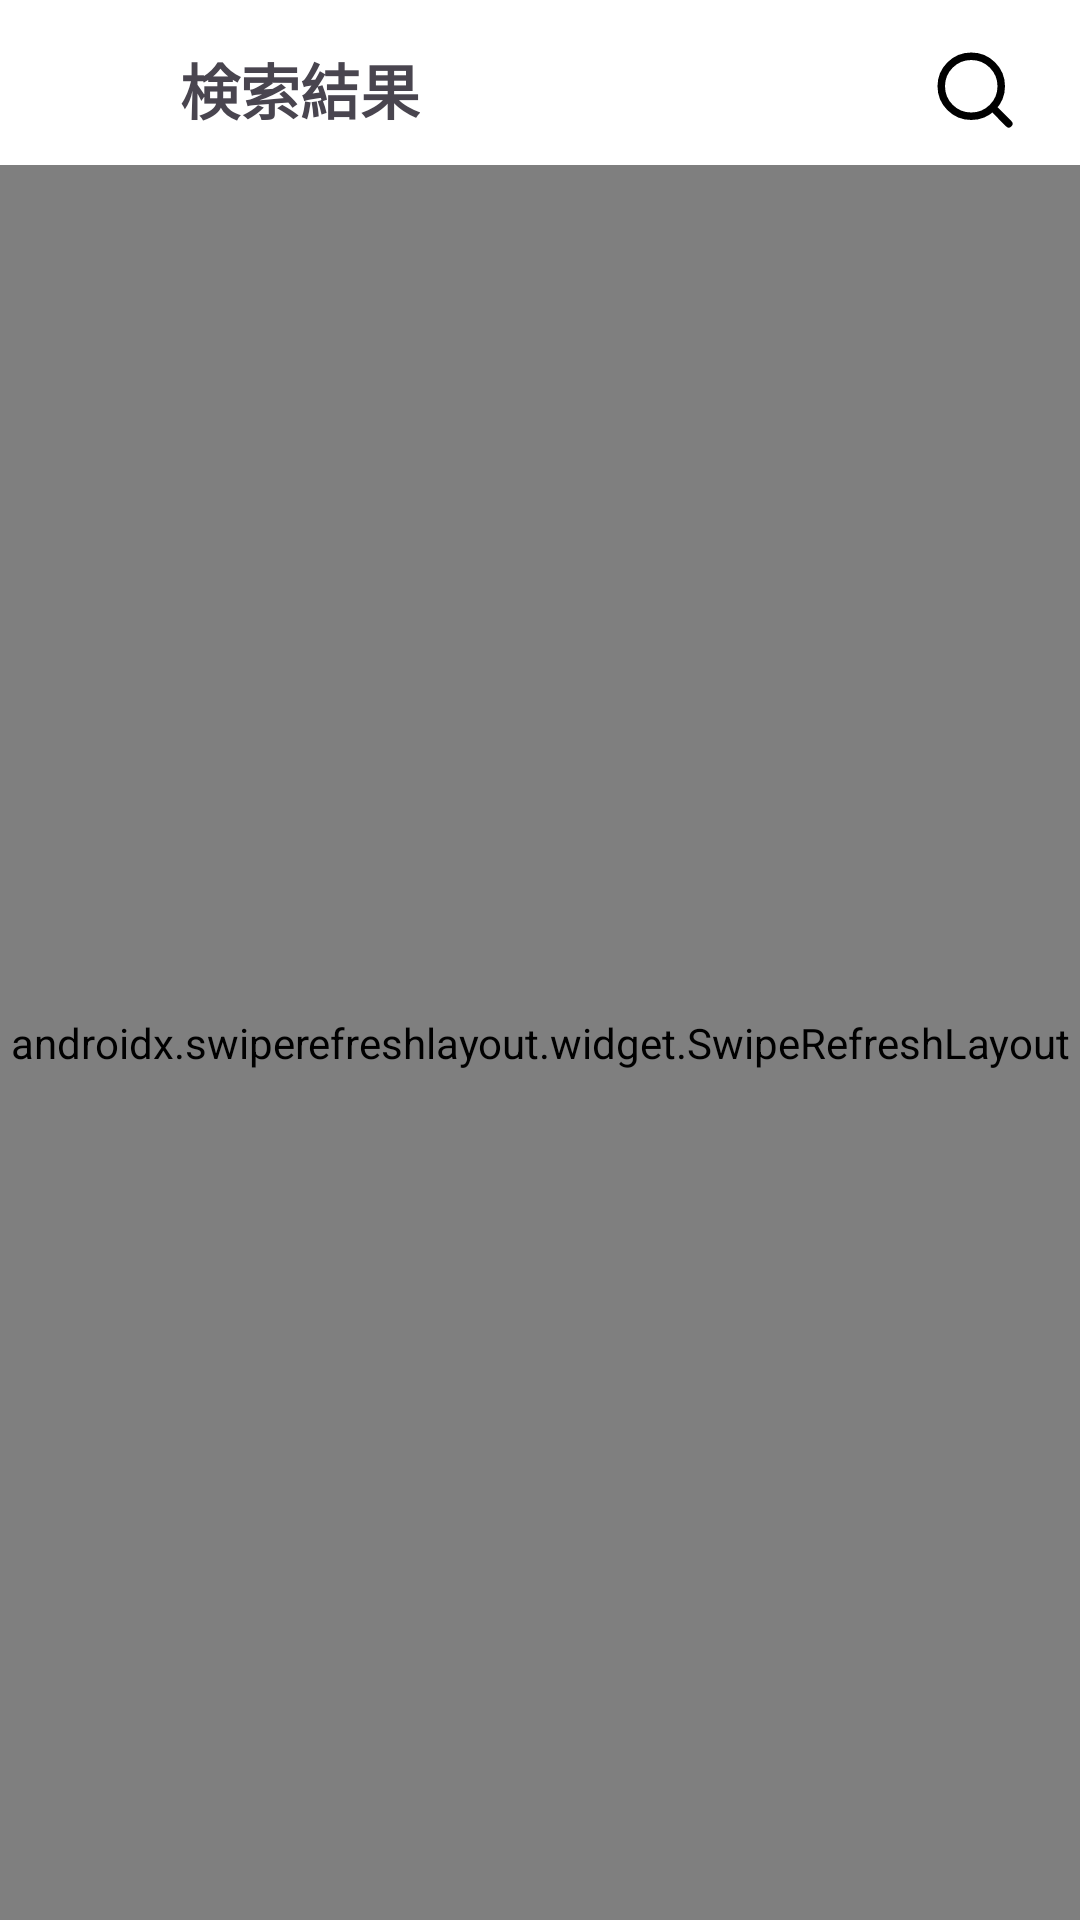

Point at icon controls on the screen. Image size 1080w x 1920h, points as (x=x, y=y).
search: (x=975, y=90)
